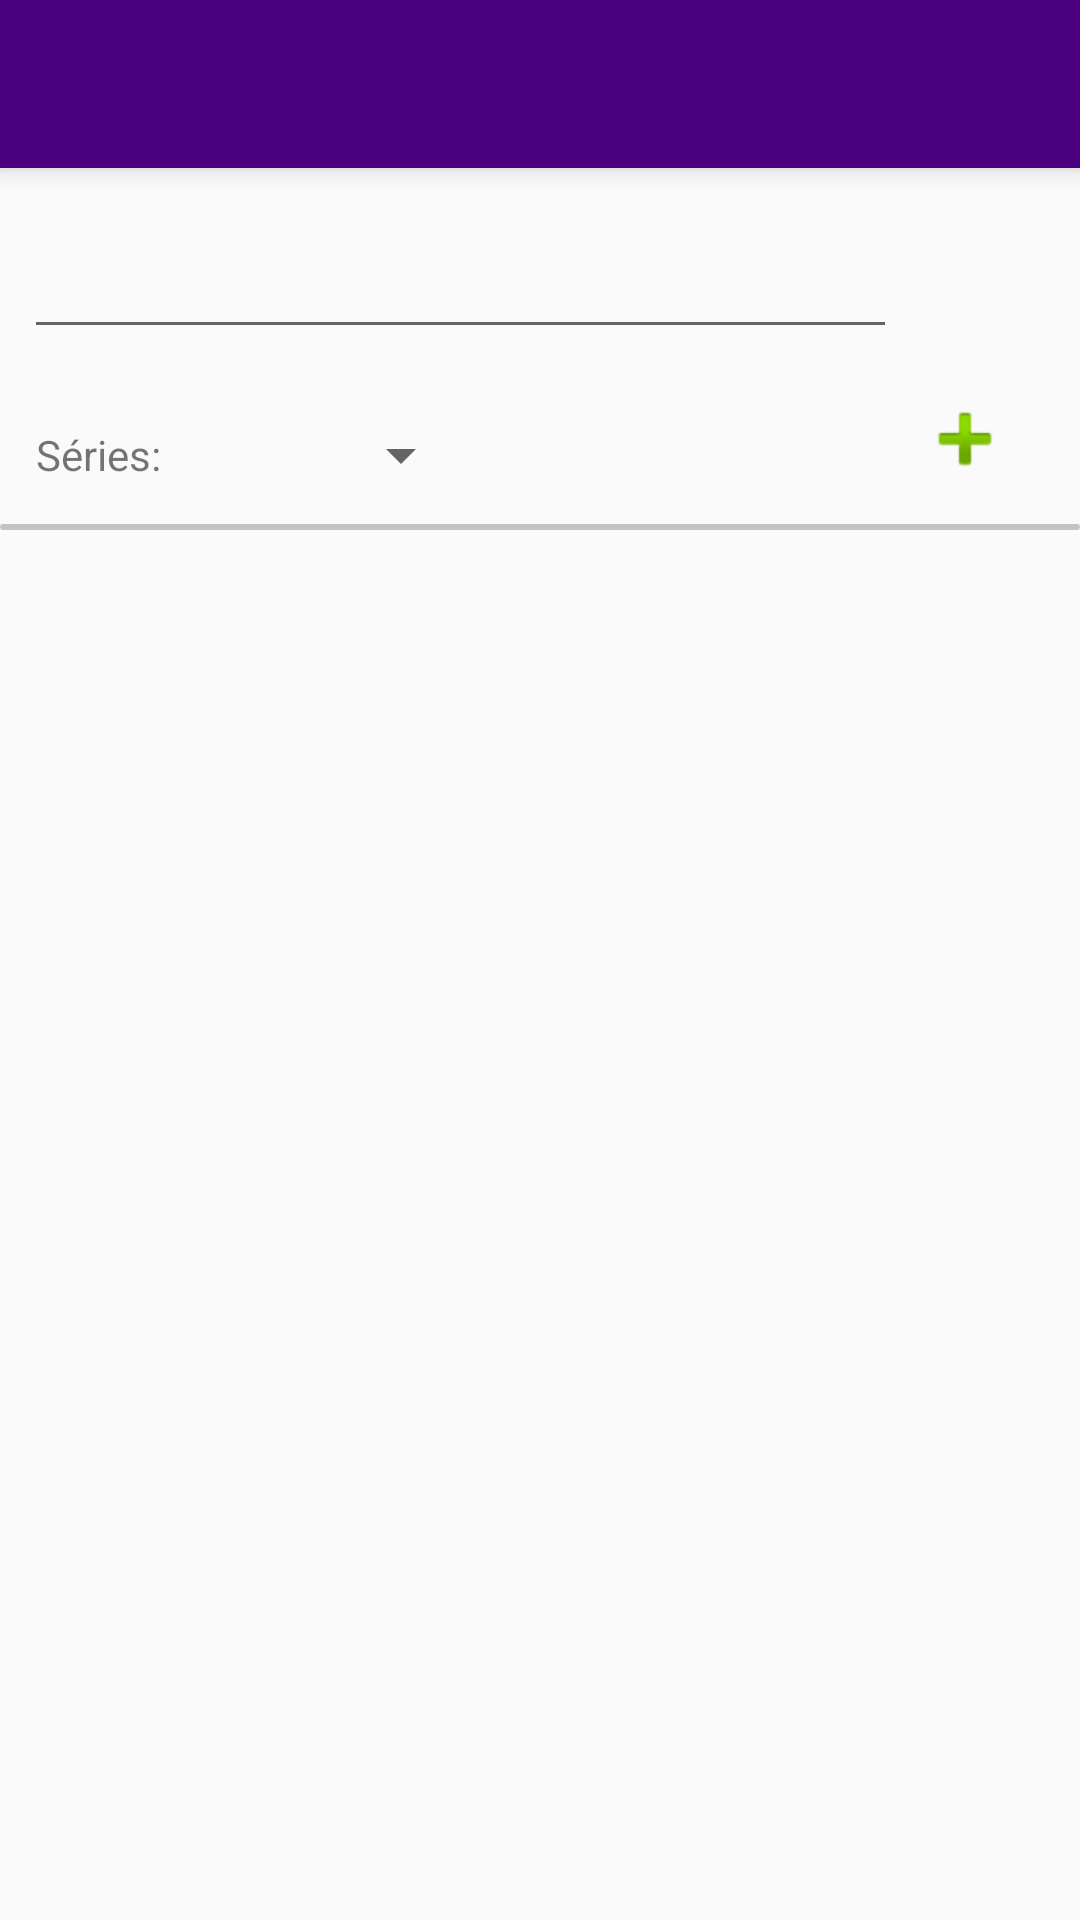

Named icons in this screenshot (1080 × 1920) and their centers, (x,y):
add: (965,439)
